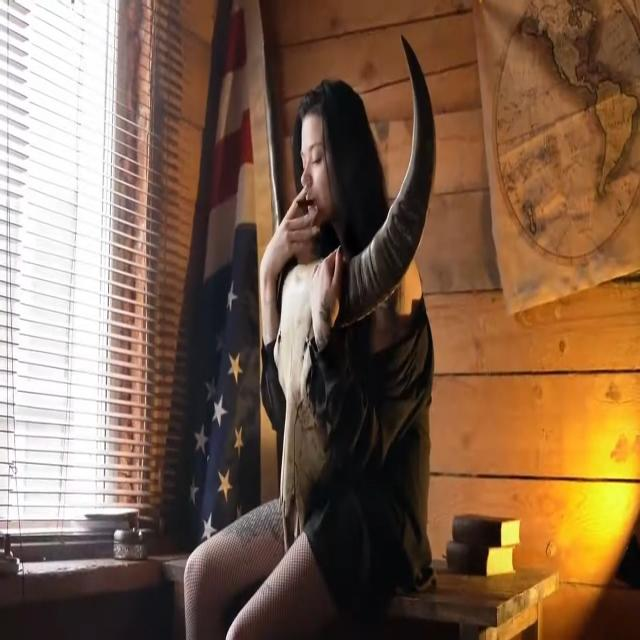Курение: (294, 196, 319, 214)
